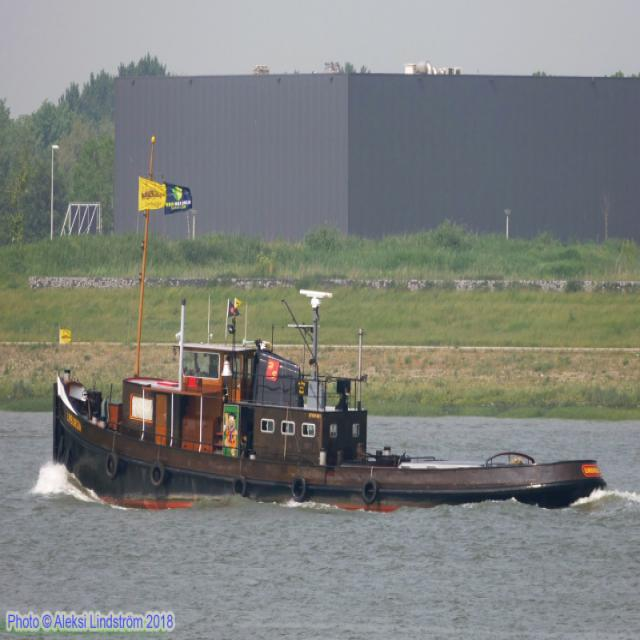tugboat: (51, 287, 611, 526)
